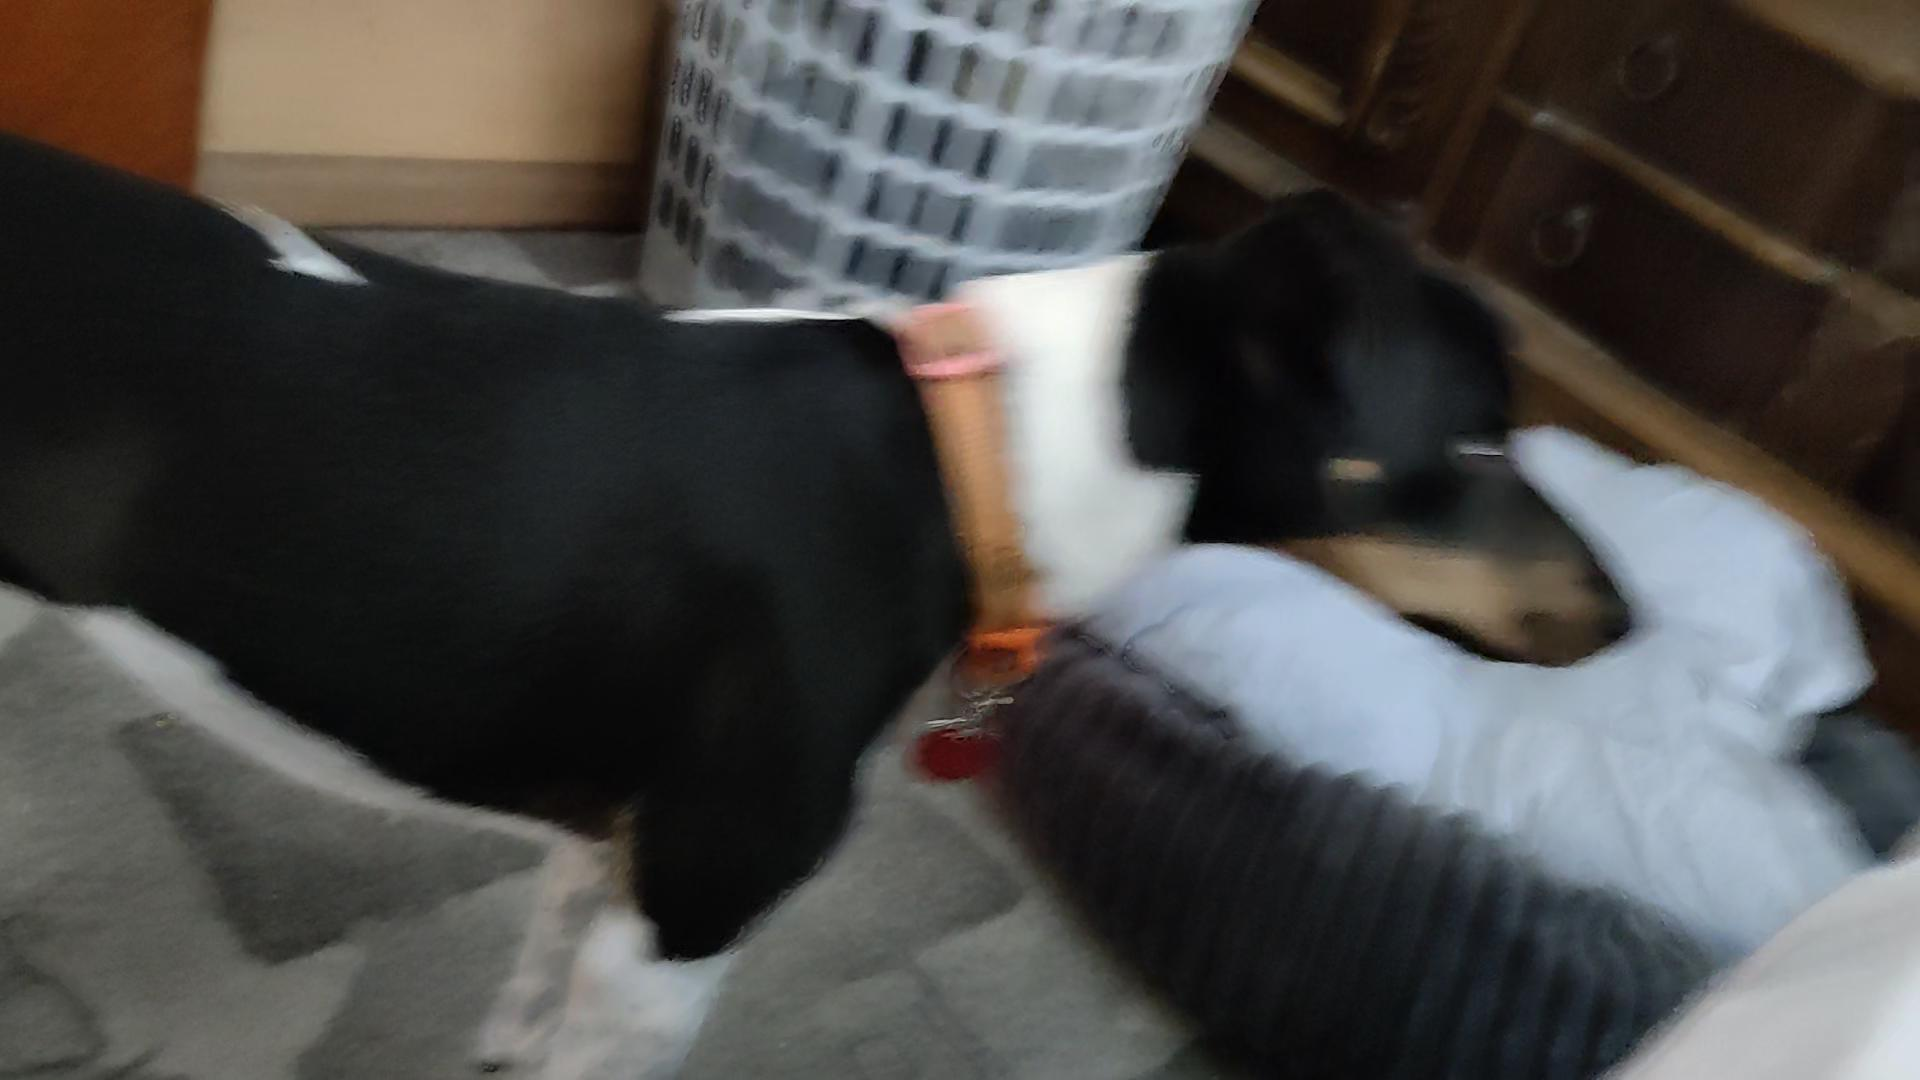Dog: (0, 95, 1664, 1079)
